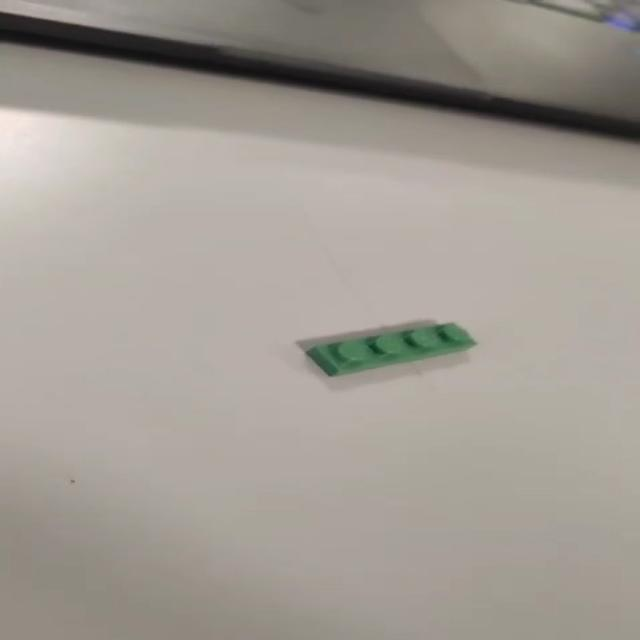C4x1x0: (288, 317, 480, 384)
